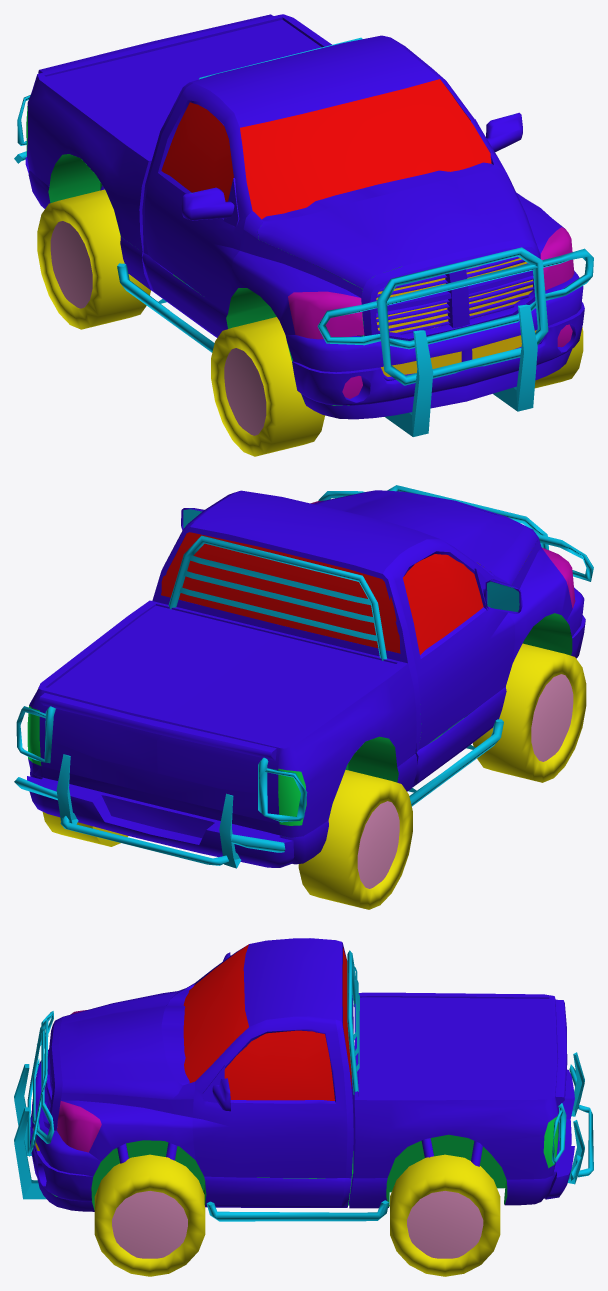
Rendered from Car04_Low_ColorCoded.fbx.
3 renders of one model, top to bottom at view 1: azimuth 30°, elevation 25°; view 2: azimuth 150°, elevation 25°; view 3: azimuth 270°, elevation 25°, orthographic. The views are drawn at different scales.
Visible parts, largest first — view 1: carShape_low, chrome_low, tireFrontR_low, tireBackR_low, tireFrontL_low; view 2: carShape_low, tireBackR_low, tireFrontR_low, chrome_low, tireBackL_low; view 3: carShape_low, tireFrontL_low, tireBackL_low, chrome_low.
Boxes of the visible parts, x1=… form: carShape_low: x1=25, y1=14, x2=584, y2=419; chrome_low: x1=14, y1=95, x2=593, y2=436; tireFrontR_low: x1=211, y1=317, x2=324, y2=456; tireBackR_low: x1=37, y1=189, x2=150, y2=329; tireFrontL_low: x1=534, y1=327, x2=583, y2=388; carShape_low: x1=27, y1=490, x2=585, y2=867; tireBackR_low: x1=298, y1=770, x2=412, y2=909; tireFrontR_low: x1=473, y1=643, x2=586, y2=782; chrome_low: x1=14, y1=485, x2=593, y2=868; tireBackL_low: x1=42, y1=812, x2=128, y2=846; carShape_low: x1=30, y1=938, x2=574, y2=1211; tireFrontL_low: x1=94, y1=1154, x2=205, y2=1276; tireBackL_low: x1=390, y1=1154, x2=500, y2=1276; chrome_low: x1=14, y1=1011, x2=593, y2=1221.
Bounding box in the file's own units: 68.94 × 120 × 54.38.
